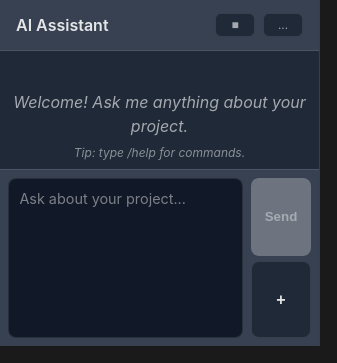
Scenario: ChatPanel - Autopilot Features › Autopilot Start Safeguards › shows a fallback error message when autopilot start fails
Type "Start autopilot please" into the text box with test id "chat-input" at coordinates (126, 258), box x1=8 y1=178 x2=243 y2=338
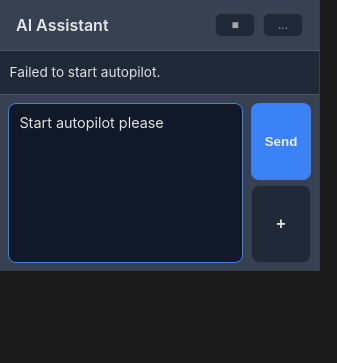
Check: the text "Failed to start autopilot." is shown, box x1=10 y1=64 x2=160 y2=80
